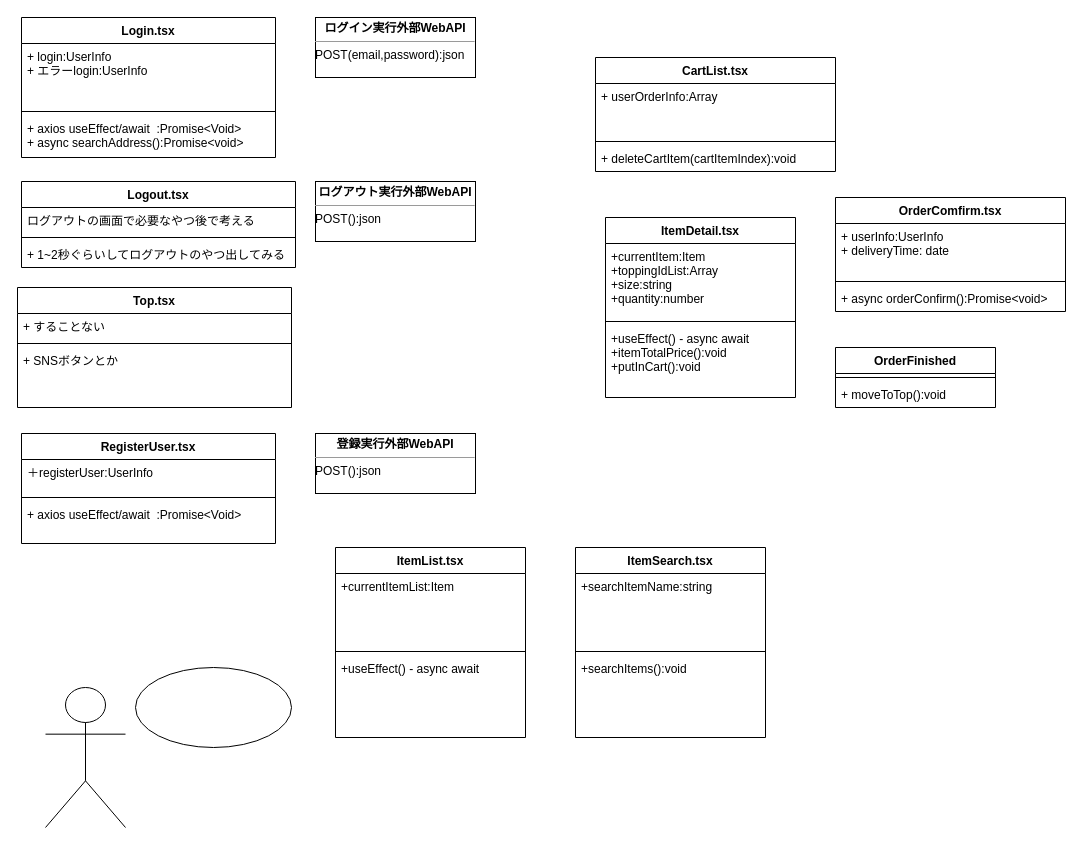
The diagram is 1083 pixels wide and 866 high, and some of its shapes have lost their labels. The shapes that lost their labels are listed below. From the top down, each one's centre as x and y in pixels, then its label:
At point 213,707: "困ったら報・連・相じゃ".
At point 85,757: "店長".
